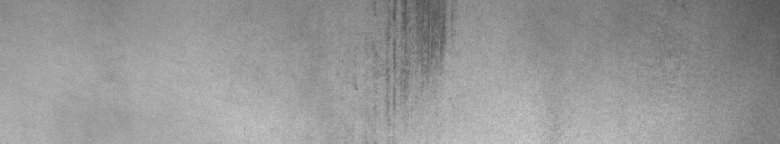ka: (354, 4, 454, 109)
